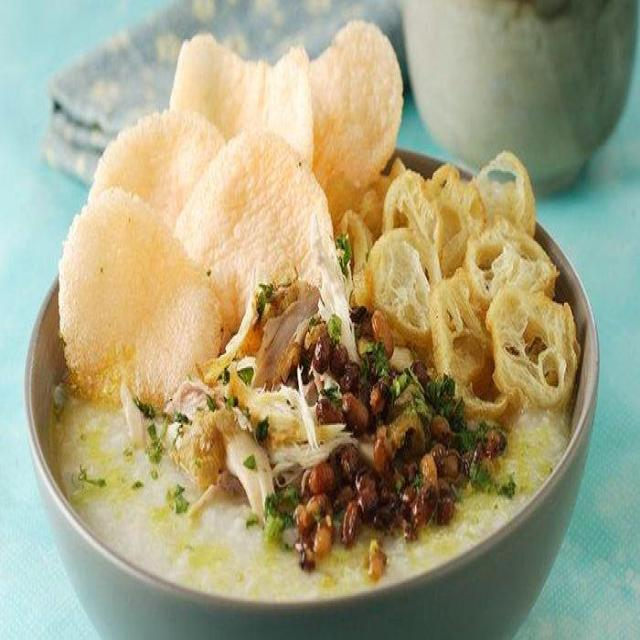bubur ayam: (51, 178, 572, 598)
mangkuk: (9, 19, 604, 632)
